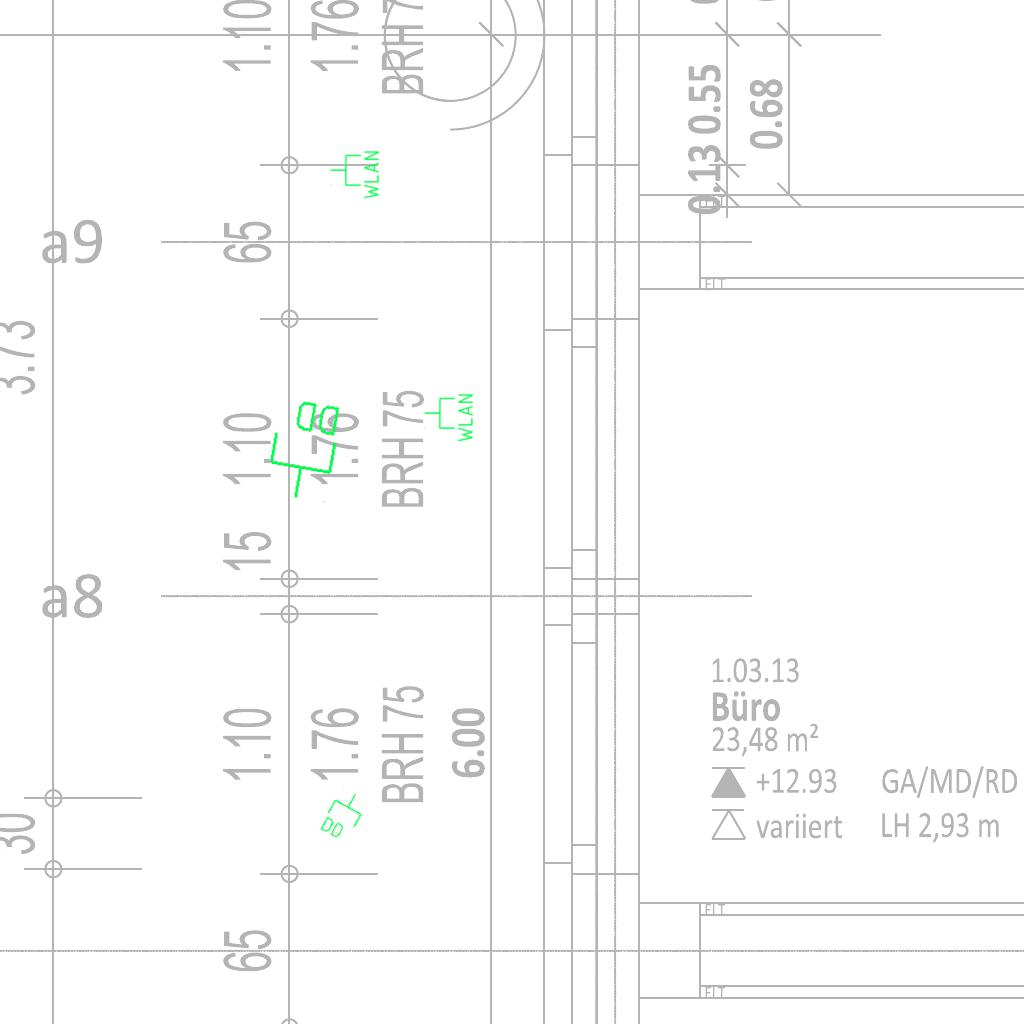Datenanschluss_zweifach: (261, 392, 348, 507), (316, 784, 371, 846)
WLAN: (423, 392, 475, 444), (329, 149, 381, 201)
